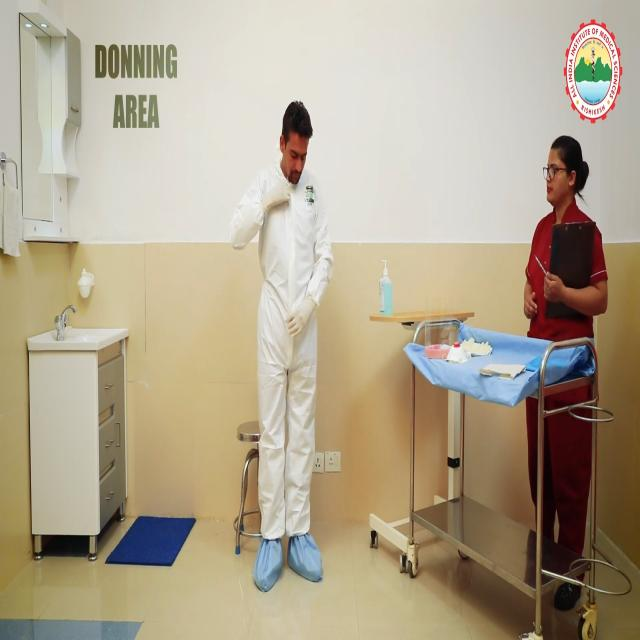Gloves: (286, 286, 317, 350), (261, 182, 294, 227)
